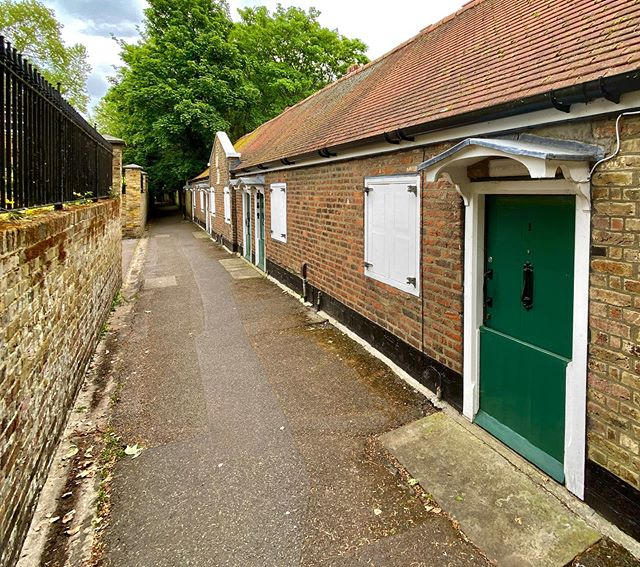building: (199, 25, 640, 530)
door: (484, 190, 577, 477)
tree: (110, 1, 347, 185)
